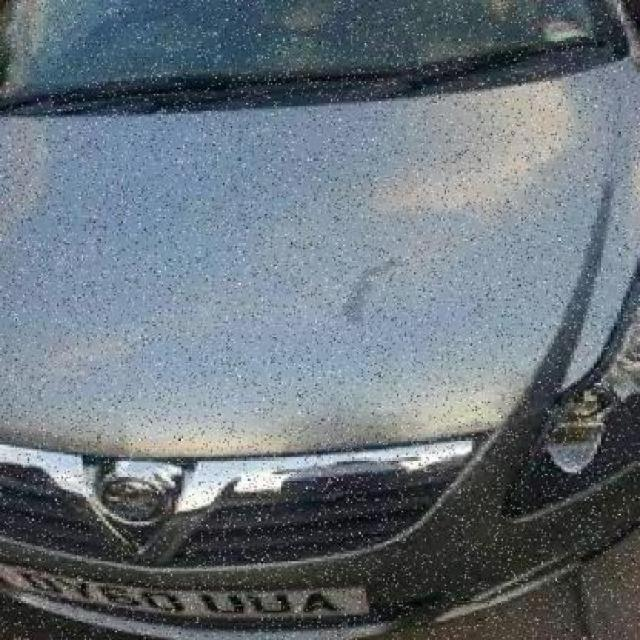bonnet-dent: (0, 92, 634, 494)
